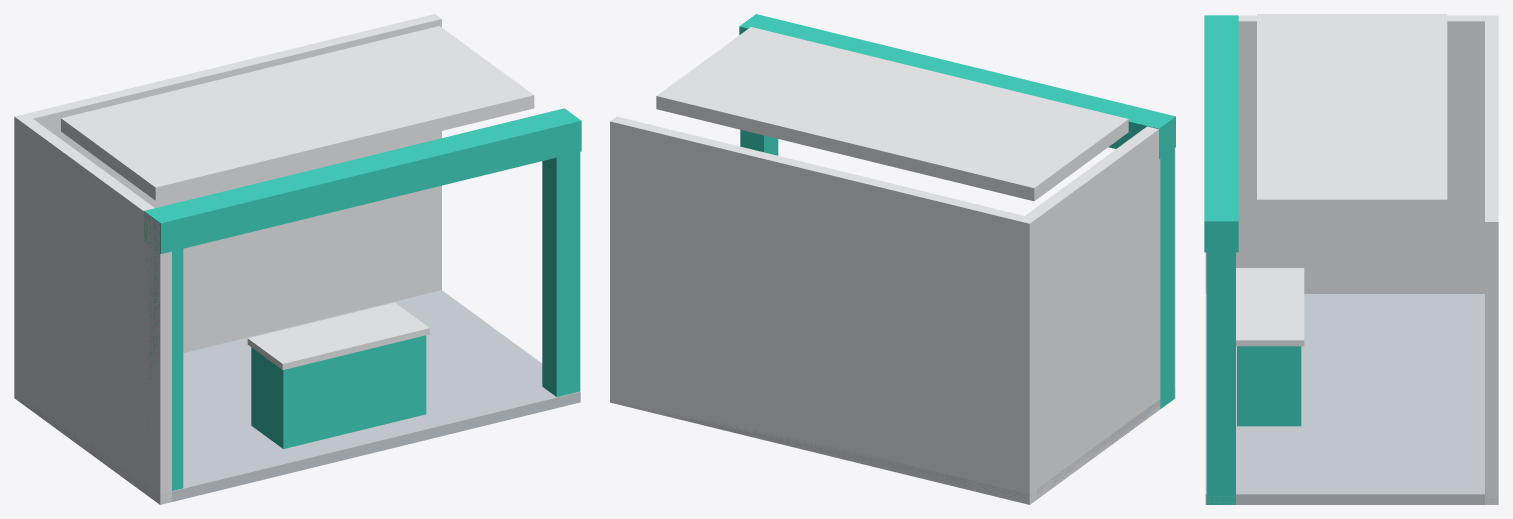
The picture shows the model from 3 angles, left to right: view 1: azimuth 30°, elevation 25°; view 2: azimuth 150°, elevation 25°; view 3: azimuth 270°, elevation 25°; orthographic projection.
Visible parts, largest first — view 1: Exhibition Booth Concept; view 2: Exhibition Booth Concept; view 3: Exhibition Booth Concept.
Boxes of the visible parts, x1,y1,x2,y2 form: Exhibition Booth Concept: (14,14,581,504); Exhibition Booth Concept: (610,14,1175,504); Exhibition Booth Concept: (1204,14,1498,504).
Size of the model in its own units: 5 by 3.34 by 3.01.
